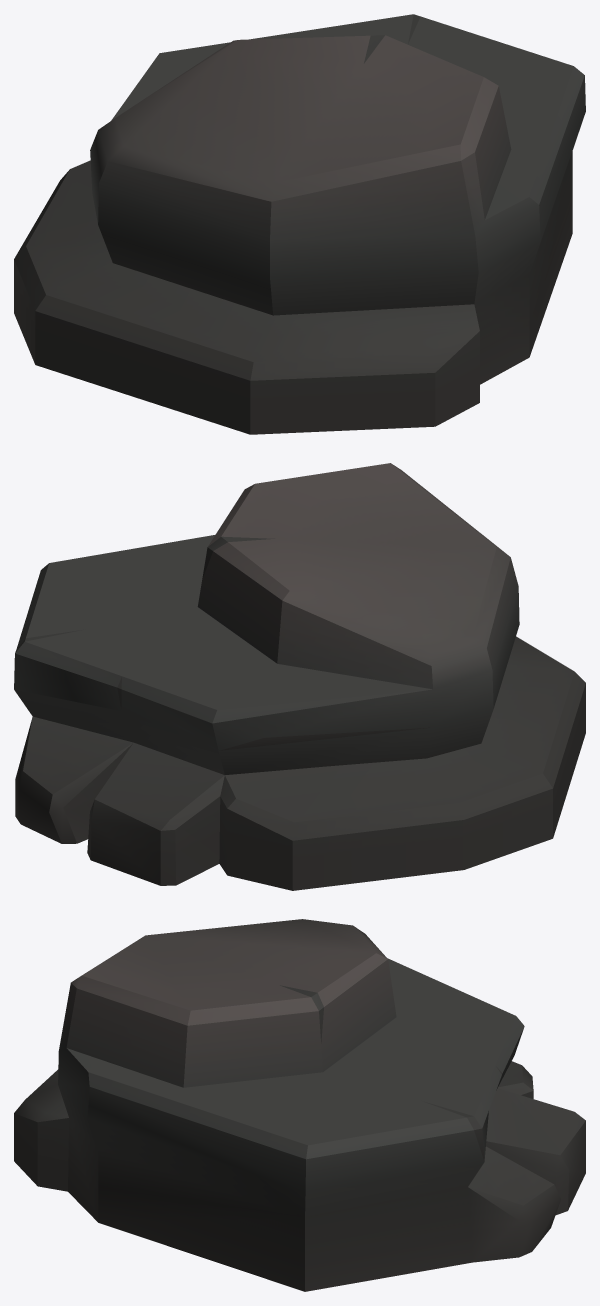
Rendered from MixedBag5.fbx.
3 renders of one model, top to bottom at view 1: azimuth 30°, elevation 25°; view 2: azimuth 150°, elevation 25°; view 3: azimuth 270°, elevation 25°, orthographic. The views are drawn at different scales.
Visible parts, largest first — view 1: MixedBag5_LOD0; view 2: MixedBag5_LOD0; view 3: MixedBag5_LOD0.
Boxes of the visible parts, x1,y1,x2,y2 form: MixedBag5_LOD0: (14, 14, 585, 434); MixedBag5_LOD0: (14, 463, 585, 890); MixedBag5_LOD0: (14, 919, 585, 1291).
Size of what is drawn, in the model's own units: 2.39 by 1 by 2.41.
